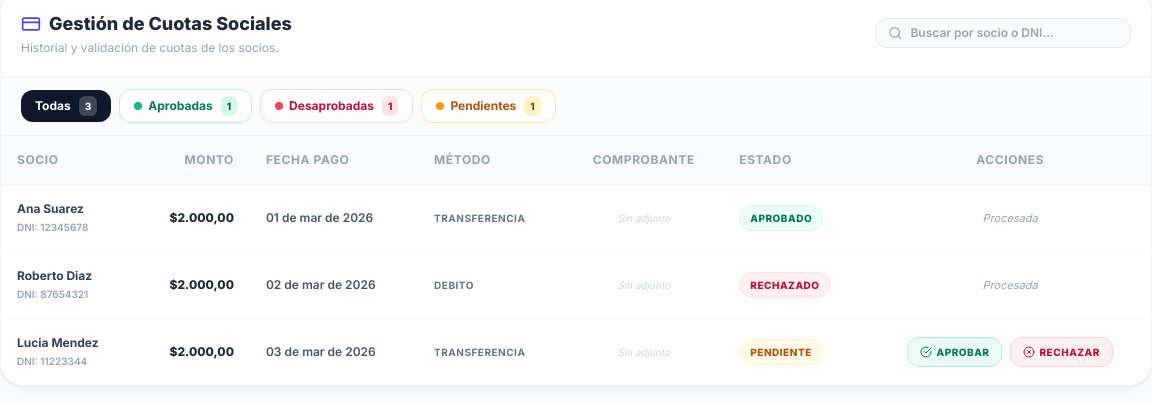
Test: AdminCuotasTab - Vistas por estado › debería filtrar exclusivamente cuotas aprobadas al seleccionar la pestaña Aprobadas
Click the button "Aprobadas 1": [186, 106] box 119,89 -> 252,123
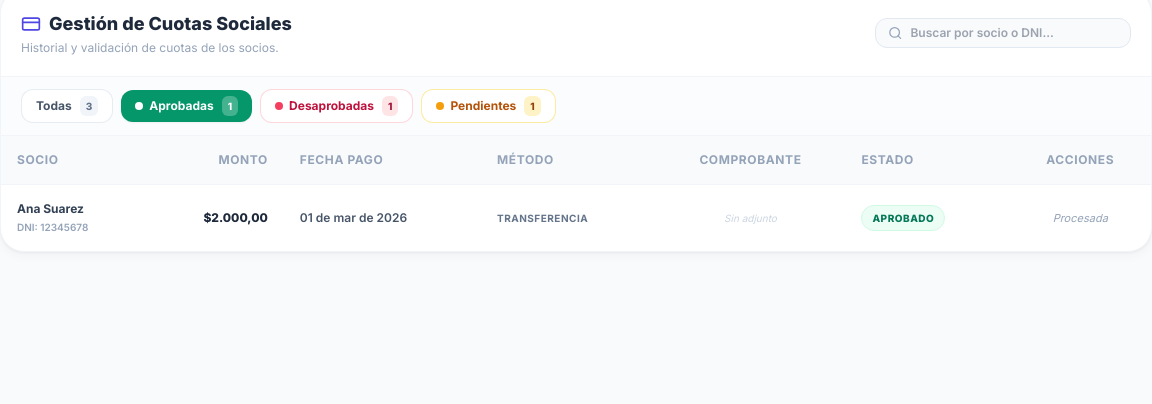
Check: the text "Roberto Diaz" is gone
Check: the text "Lucia Mendez" is gone
